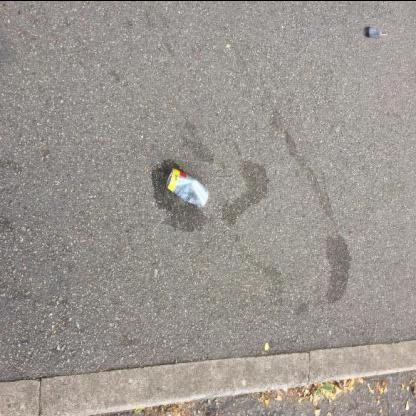Can: (167, 167, 209, 207)
Pop tab: (167, 174, 172, 181)
